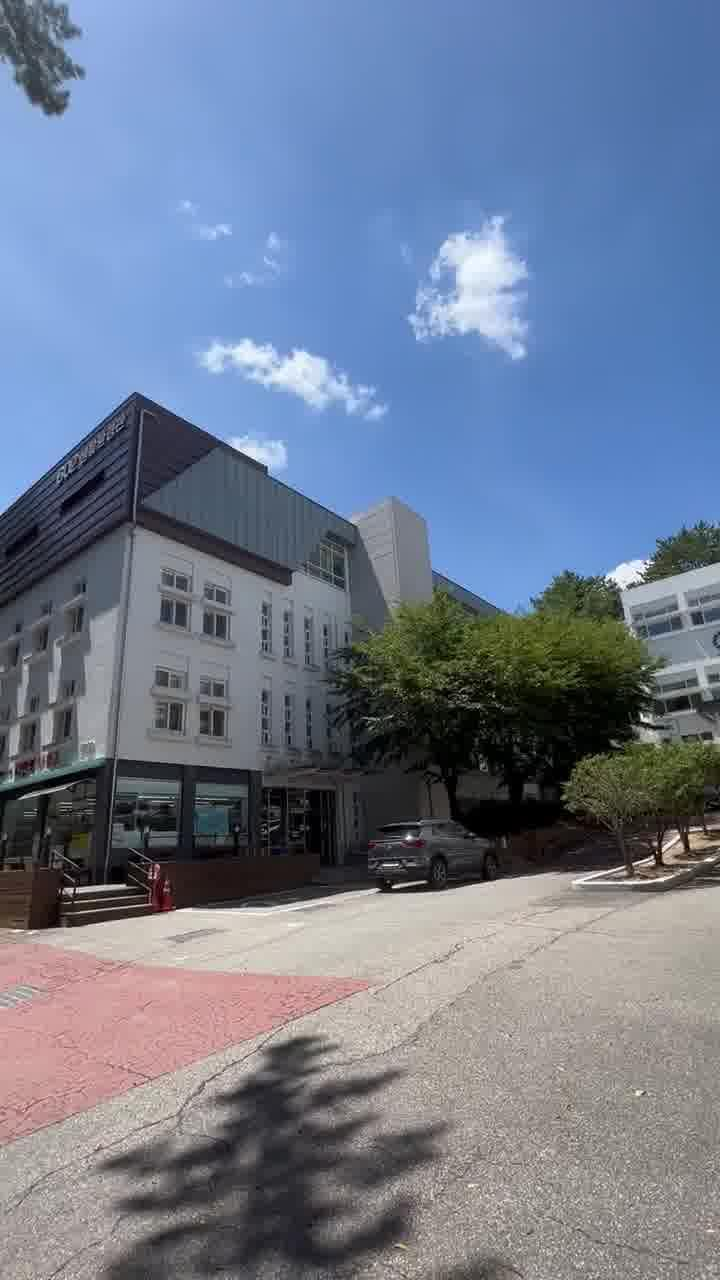building: (14, 378, 364, 838)
